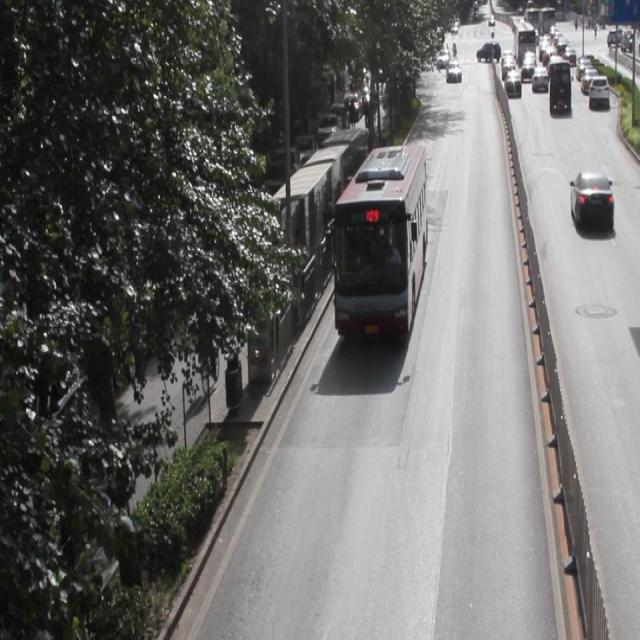car: (569, 171, 612, 231)
van: (333, 146, 425, 336)
